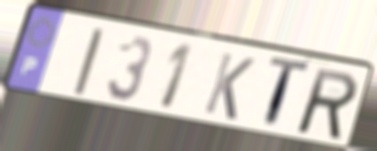1: (156, 41, 195, 112)
3: (106, 34, 153, 105)
I: (70, 25, 108, 98)
K: (200, 50, 258, 124)
R: (296, 65, 361, 143)
T: (263, 54, 313, 135)
